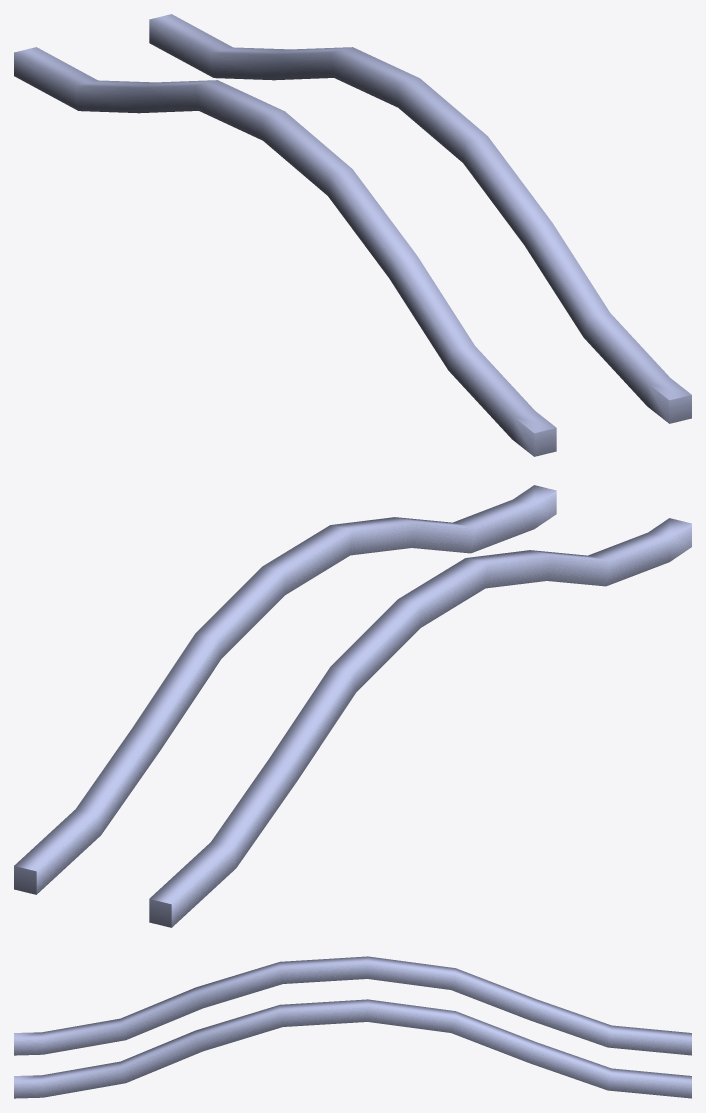
The model's file is railroad-rail-straight-bump-up.glb.
3 renders of one model, top to bottom at view 1: azimuth 30°, elevation 25°; view 2: azimuth 150°, elevation 25°; view 3: azimuth 270°, elevation 25°, orthographic. The views are drawn at different scales.
Parts seen in each view (by area): view 1: railroad-rail-straight-bump-up; view 2: railroad-rail-straight-bump-up; view 3: railroad-rail-straight-bump-up.
Part boxes in pixels (left/top/right/bottom): railroad-rail-straight-bump-up: left=14, top=14, right=691, bottom=456; railroad-rail-straight-bump-up: left=14, top=485, right=691, bottom=927; railroad-rail-straight-bump-up: left=14, top=956, right=691, bottom=1098.
Bounding box in the file's own units: 0.7 × 0.5987 × 4.
Materials: 1 (1 with a texture image).
